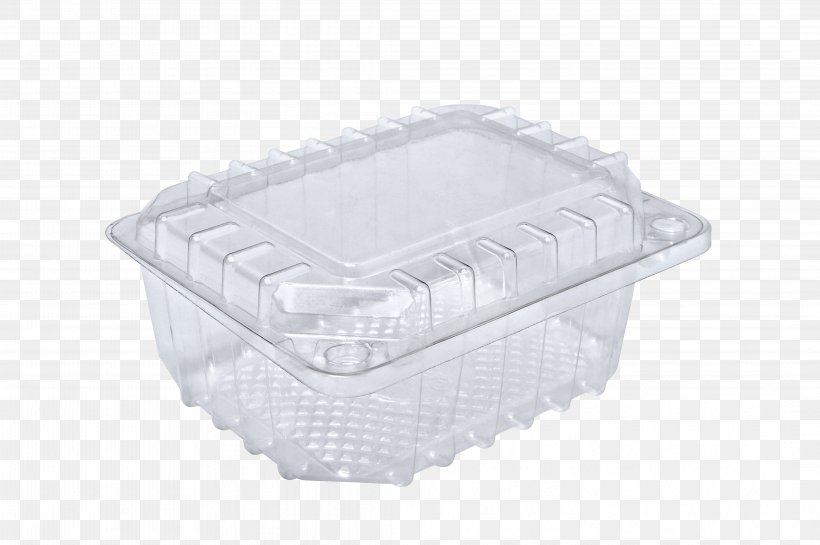PlasticBox: (100, 94, 716, 493)
